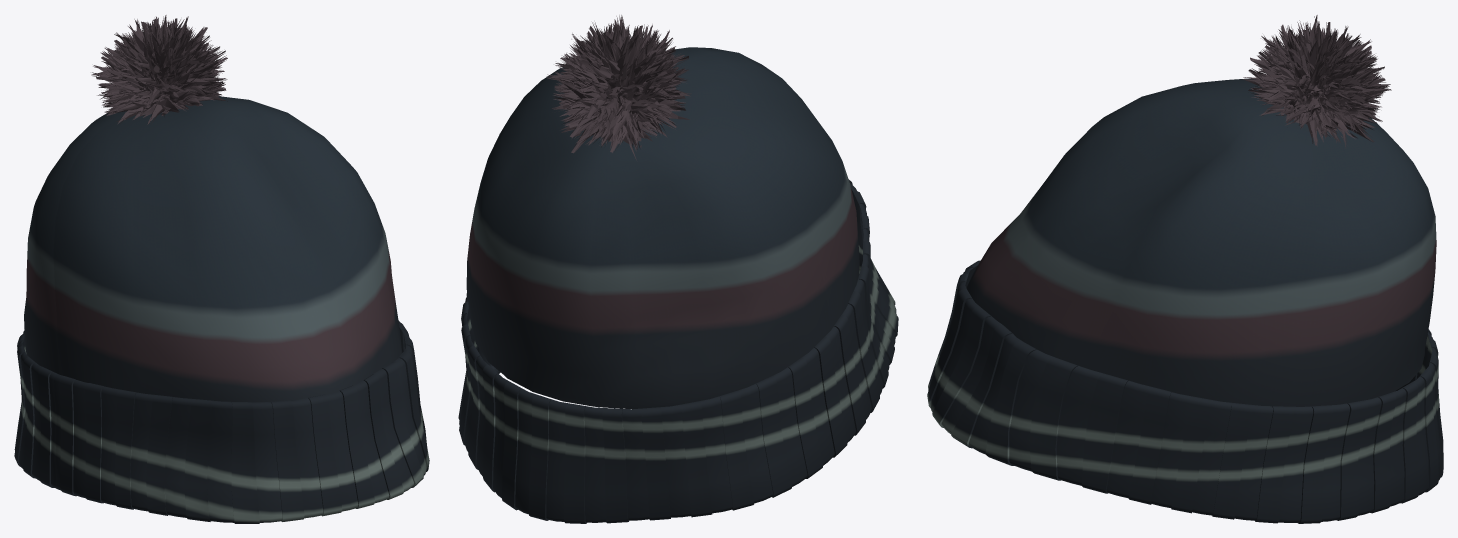
The model's file is knit_hat.glb.
3 renders of one model, left to right at view 1: azimuth 30°, elevation 25°; view 2: azimuth 150°, elevation 25°; view 3: azimuth 270°, elevation 25°, orthographic. The views are drawn at different scales.
Parts seen in each view (by area): view 1: KnitHat_Crown, KnitHat_Cuff, KnitHat_Pom; view 2: KnitHat_Crown, KnitHat_Cuff, KnitHat_Pom; view 3: KnitHat_Crown, KnitHat_Cuff, KnitHat_Pom.
Boxes of the visible parts, box(x1,y1,x2,y2) form: KnitHat_Crown: box(24, 96, 402, 402); KnitHat_Cuff: box(14, 320, 429, 523); KnitHat_Pom: box(91, 15, 227, 124); KnitHat_Crown: box(466, 47, 859, 409); KnitHat_Cuff: box(458, 179, 898, 523); KnitHat_Pom: box(546, 15, 691, 160); KnitHat_Crown: box(966, 78, 1436, 406); KnitHat_Cuff: box(927, 260, 1443, 523); KnitHat_Pom: box(1242, 15, 1391, 148).
Size of the model in its own units: 0.1932 by 0.2392 by 0.2522.
Materials: 3 (2 with a texture image).
